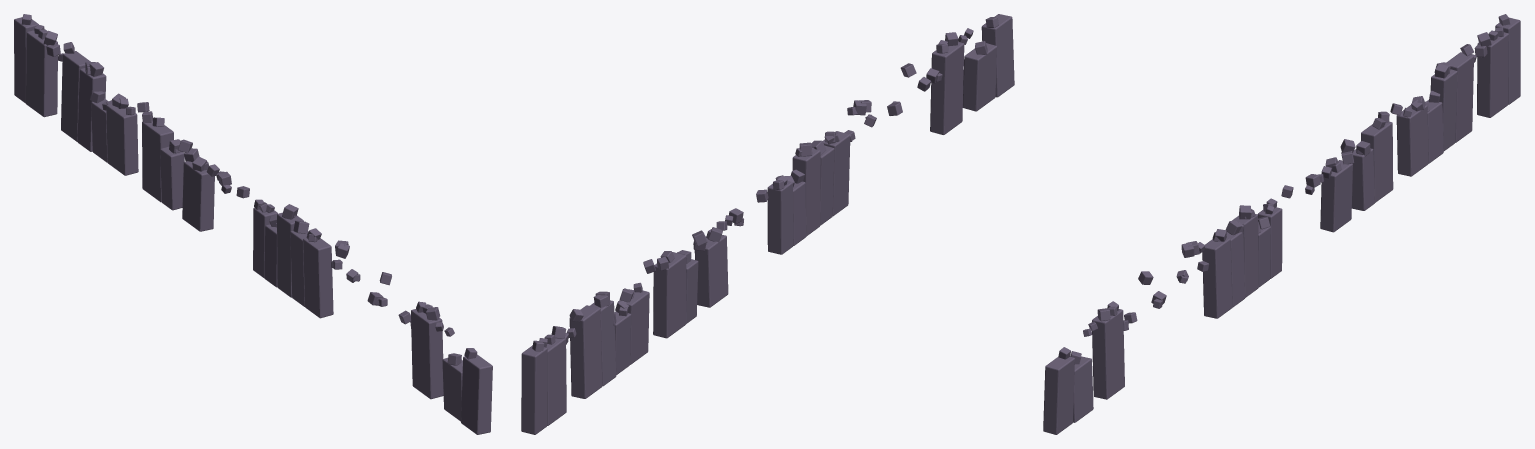
Rendered from WallsW_Stone.fbx.
The picture shows the model from 3 angles, left to right: view 1: azimuth 30°, elevation 25°; view 2: azimuth 150°, elevation 25°; view 3: azimuth 330°, elevation 25°; orthographic projection. The views are drawn at different scales.
Parts seen in each view (by area): view 1: WallBlock1_-30.001; view 2: WallBlock1_-30.001; view 3: WallBlock1_-30.001.
Part boxes in pixels (left/top/right/bottom): WallBlock1_-30.001: left=14, top=14, right=492, bottom=434; WallBlock1_-30.001: left=521, top=14, right=1014, bottom=434; WallBlock1_-30.001: left=1043, top=14, right=1520, bottom=434.
Bounding box in the file's own units: 596 × 2791 × 25800.
